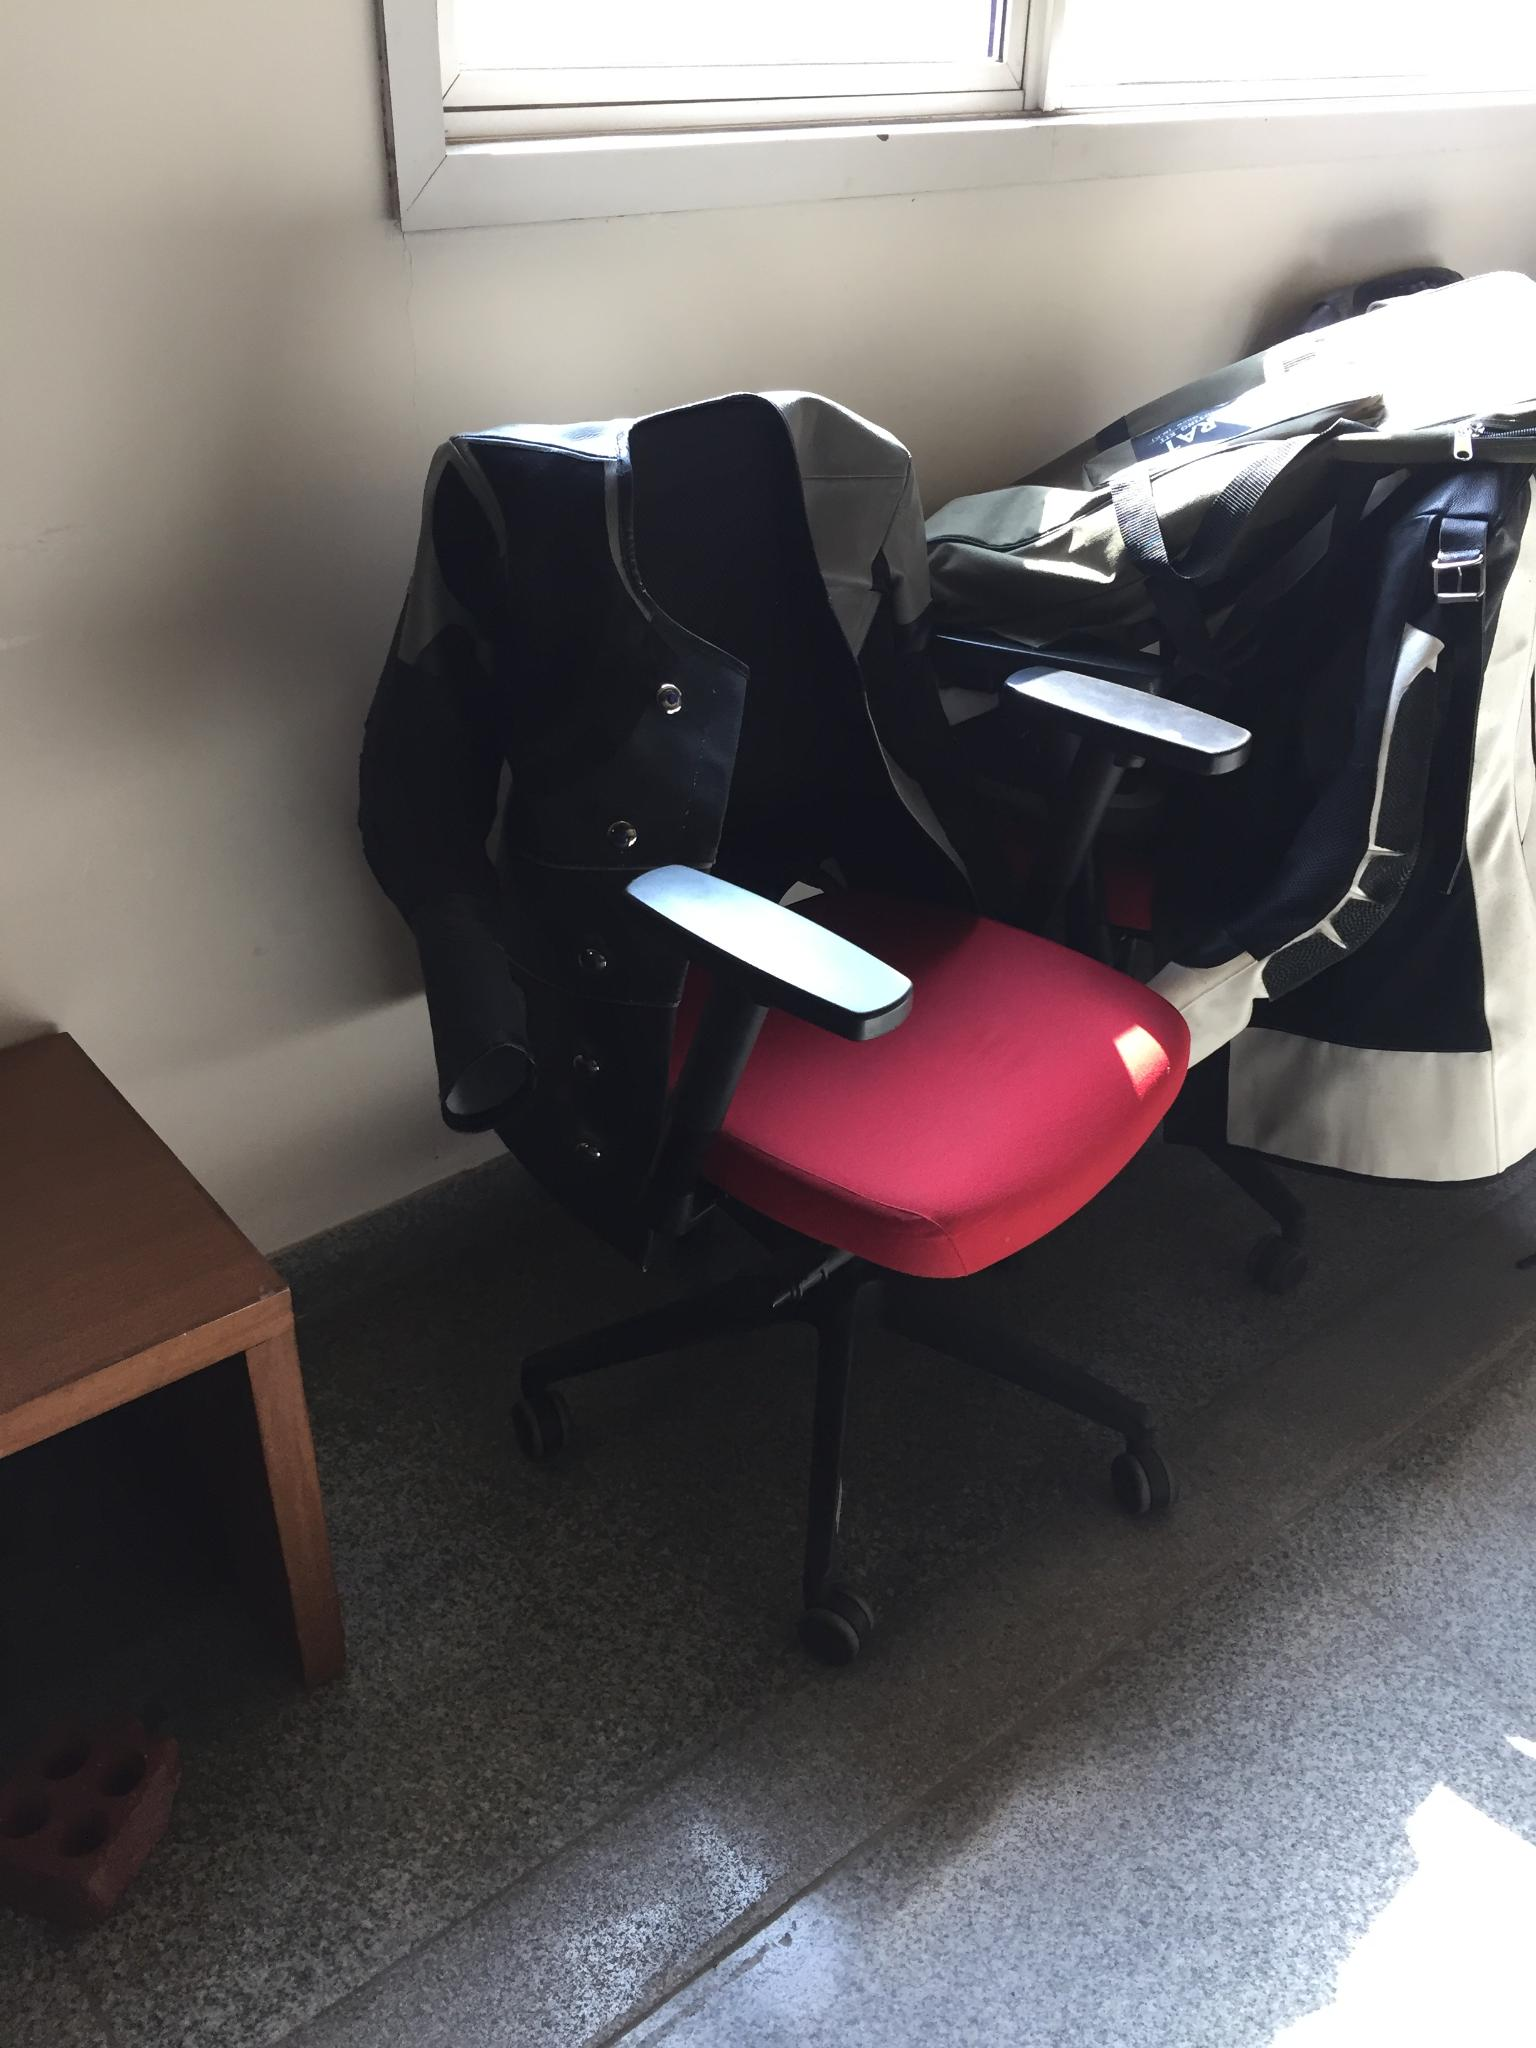chair: (357, 385, 1252, 1664)
